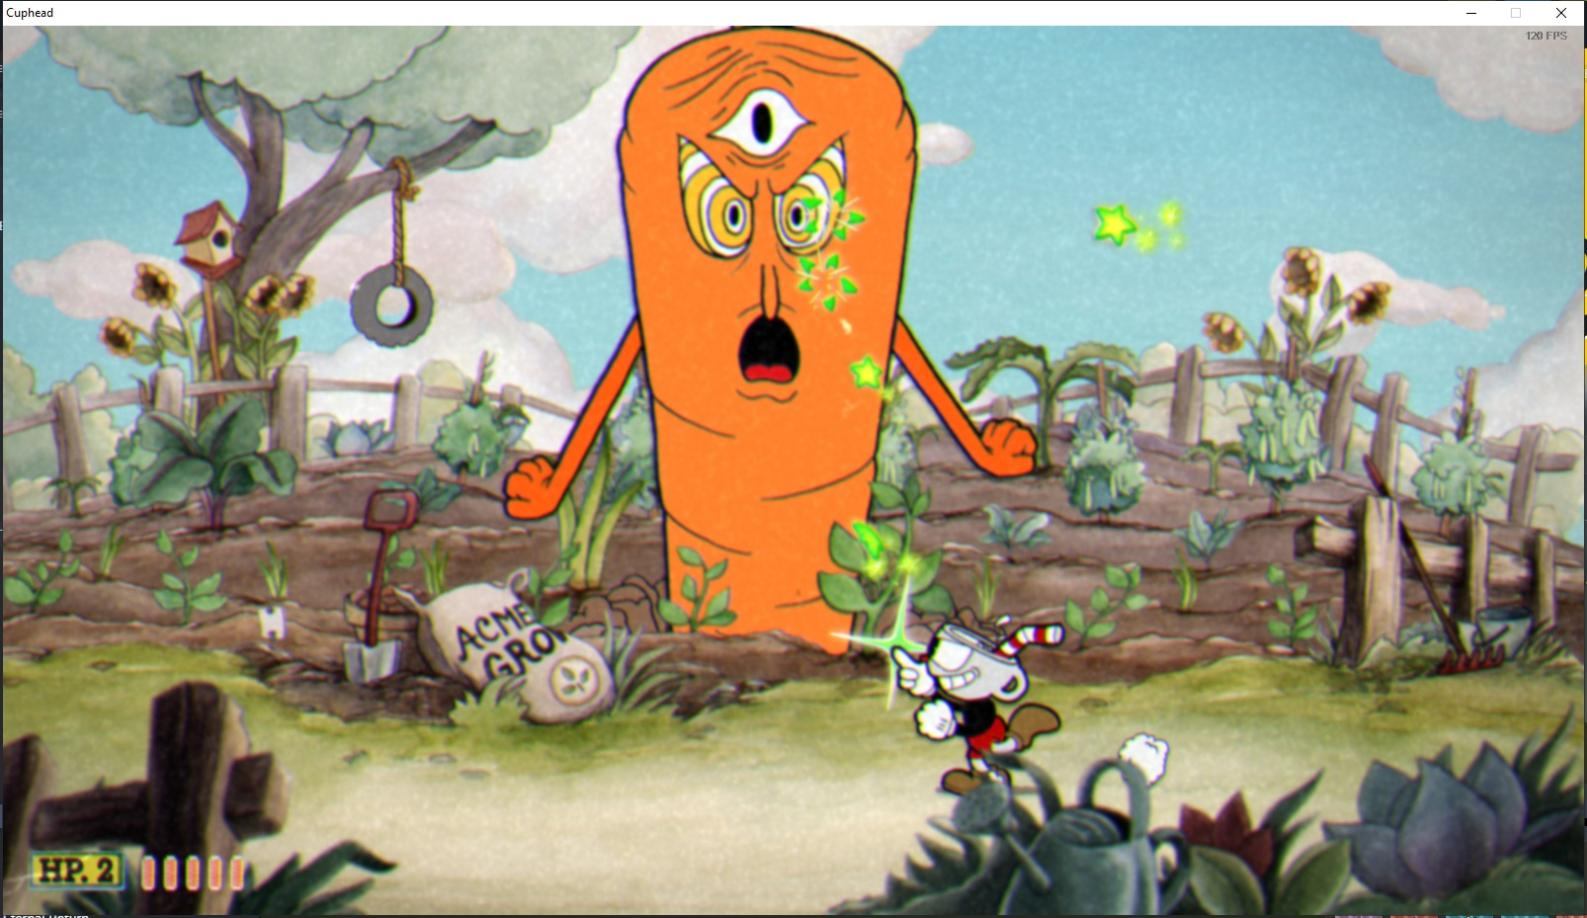hp2: (89, 853, 122, 890)
player: (868, 596, 1086, 799)
